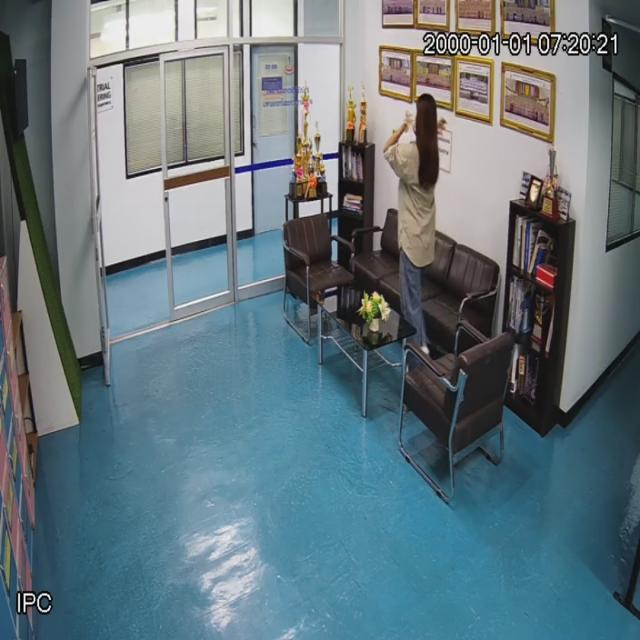normal: (379, 92, 446, 366)
